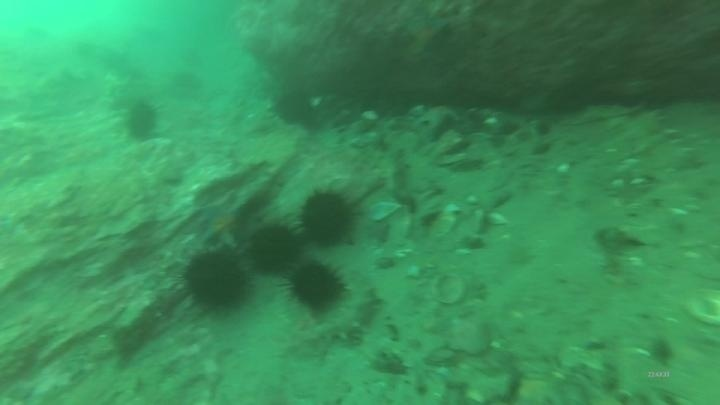echinus: (179, 247, 253, 316), (295, 186, 362, 250), (285, 258, 349, 316), (247, 221, 303, 276), (270, 87, 320, 130), (121, 98, 162, 144)
holothurian: (621, 105, 696, 175), (307, 280, 381, 348)
starfish: (194, 198, 247, 251), (397, 12, 453, 59)
